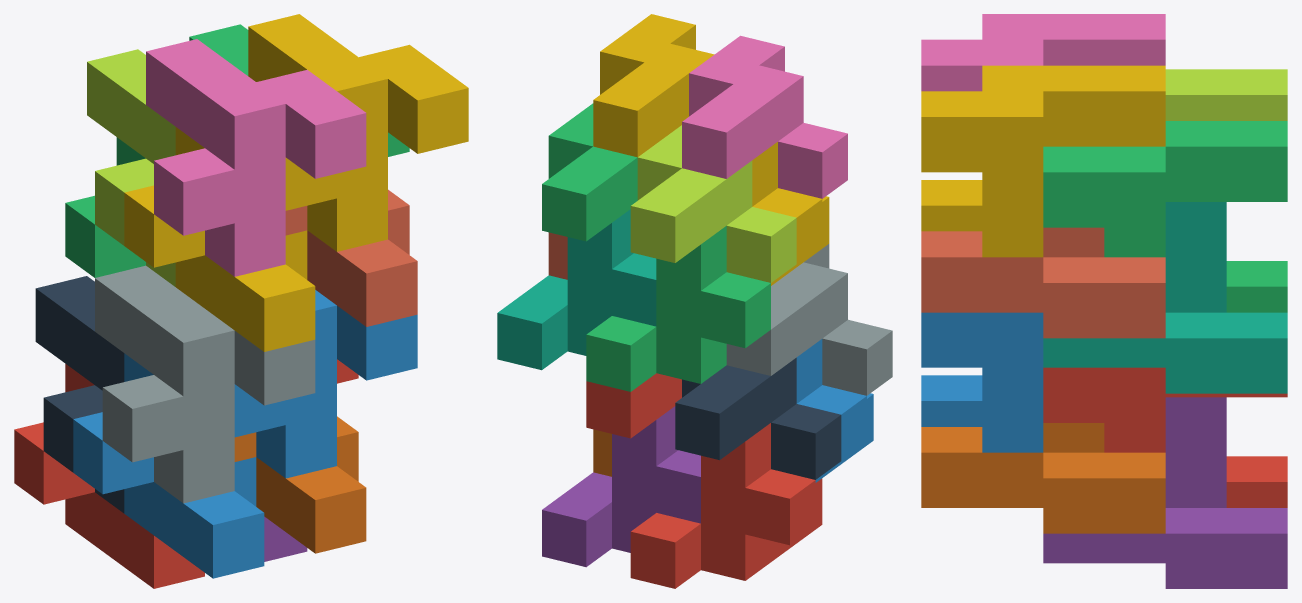
The model's file is tiling.obj.
3 views of the same model, side by side, from view 1: azimuth 30°, elevation 25°; view 2: azimuth 150°, elevation 25°; view 3: azimuth 270°, elevation 25° (orthographic). The views are drawn at different scales.
Parts seen in each view (by area): view 1: copy_2_domain_4, copy_2_domain_2, copy_2_domain_8, copy_1_domain_2, copy_1_domain_4, copy_2_domain_6, copy_1_domain_1, copy_2_domain_1, copy_2_domain_3, copy_1_domain_8, copy_1_domain_6, copy_1_domain_3 (+2 smaller); view 2: copy_1_domain_1, copy_2_domain_4, copy_1_domain_3, copy_2_domain_3, copy_1_domain_7, copy_1_domain_5, copy_2_domain_1, copy_2_domain_2, copy_2_domain_8, copy_2_domain_7, copy_2_domain_5, copy_1_domain_2 (+3 smaller); view 3: copy_2_domain_8, copy_2_domain_7, copy_1_domain_5, copy_1_domain_7, copy_1_domain_8, copy_1_domain_6, copy_2_domain_4, copy_2_domain_6, copy_2_domain_5, copy_2_domain_3, copy_1_domain_1, copy_1_domain_2 (+2 smaller).
Part boxes in pixels (x1,y1,x2,y2): copy_2_domain_4: [146, 39, 366, 276]; copy_2_domain_2: [95, 265, 315, 503]; copy_2_domain_8: [248, 14, 468, 251]; copy_1_domain_2: [73, 353, 264, 578]; copy_1_domain_4: [124, 127, 315, 351]; copy_2_domain_6: [234, 290, 417, 478]; copy_1_domain_1: [14, 364, 204, 588]; copy_2_domain_1: [35, 276, 124, 513]; copy_2_domain_3: [87, 49, 175, 286]; copy_1_domain_8: [285, 189, 417, 326]; copy_1_domain_6: [234, 416, 366, 553]; copy_1_domain_3: [65, 137, 145, 277]; copy_1_domain_1: [630, 423, 822, 588]; copy_2_domain_4: [682, 35, 847, 198]; copy_1_domain_3: [586, 226, 770, 391]; copy_2_domain_3: [630, 125, 796, 282]; copy_1_domain_7: [497, 209, 656, 370]; copy_1_domain_5: [542, 406, 700, 567]; copy_2_domain_1: [675, 357, 841, 479]; copy_2_domain_2: [726, 244, 892, 395]; copy_2_domain_8: [593, 14, 714, 157]; copy_2_domain_7: [542, 103, 637, 241]; copy_2_domain_5: [586, 373, 681, 438]; copy_1_domain_2: [796, 339, 873, 482]; copy_2_domain_8: [921, 65, 1165, 257]; copy_2_domain_7: [1043, 121, 1287, 257]; copy_1_domain_5: [1043, 397, 1287, 588]; copy_1_domain_7: [1043, 202, 1287, 393]; copy_1_domain_8: [921, 227, 1165, 338]; copy_1_domain_6: [921, 423, 1165, 533]; copy_2_domain_4: [921, 14, 1165, 91]; copy_2_domain_6: [921, 312, 1043, 452]; copy_2_domain_5: [1043, 367, 1287, 452]; copy_2_domain_3: [1165, 69, 1287, 120]; copy_1_domain_1: [1226, 456, 1287, 507]; copy_1_domain_2: [921, 375, 982, 426].
Bounding box in the file's own units: 6 × 9 × 6.
